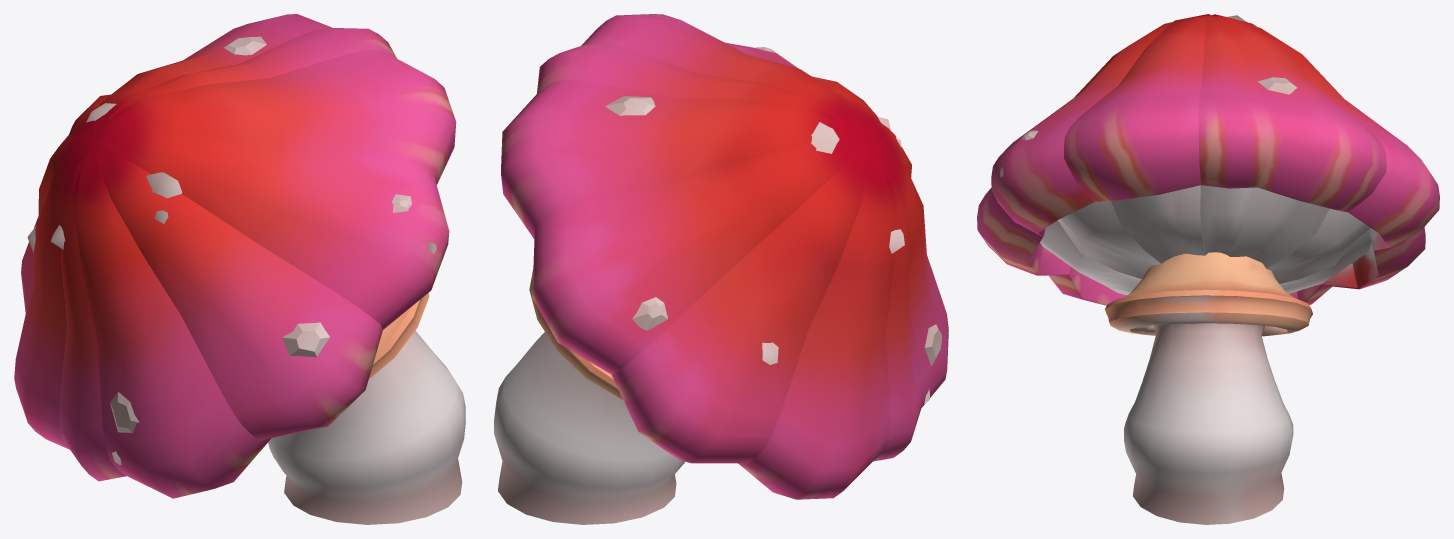
File: Interaction_mushroom_M.fbx
The picture shows the model from 3 angles, left to right: view 1: azimuth 30°, elevation 25°; view 2: azimuth 150°, elevation 25°; view 3: azimuth 270°, elevation 25°; orthographic projection. The views are drawn at different scales.
Visible parts, largest first — view 1: Cylinder004; view 2: Cylinder004; view 3: Cylinder004.
Part boxes in pixels (bbox=[...]): Cylinder004: bbox=[14, 14, 465, 524]; Cylinder004: bbox=[494, 14, 948, 524]; Cylinder004: bbox=[977, 14, 1439, 524].
Size of the model in its own units: 2.36 by 2.54 by 2.76.
